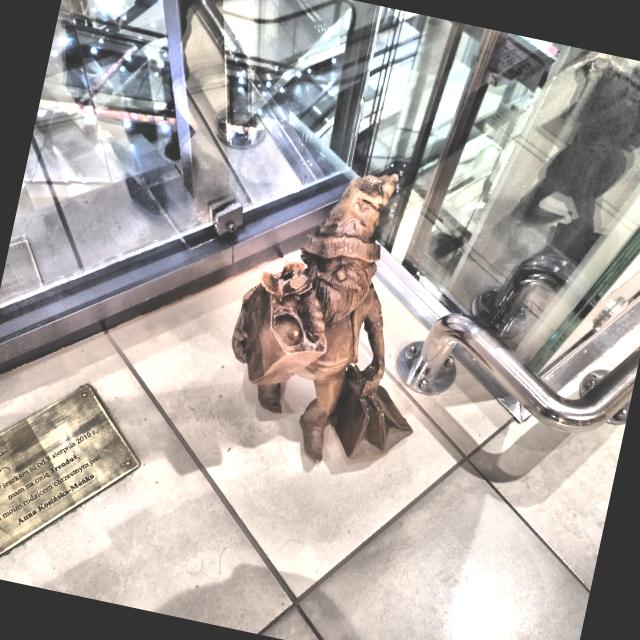Trendus: (231, 174, 412, 462)
